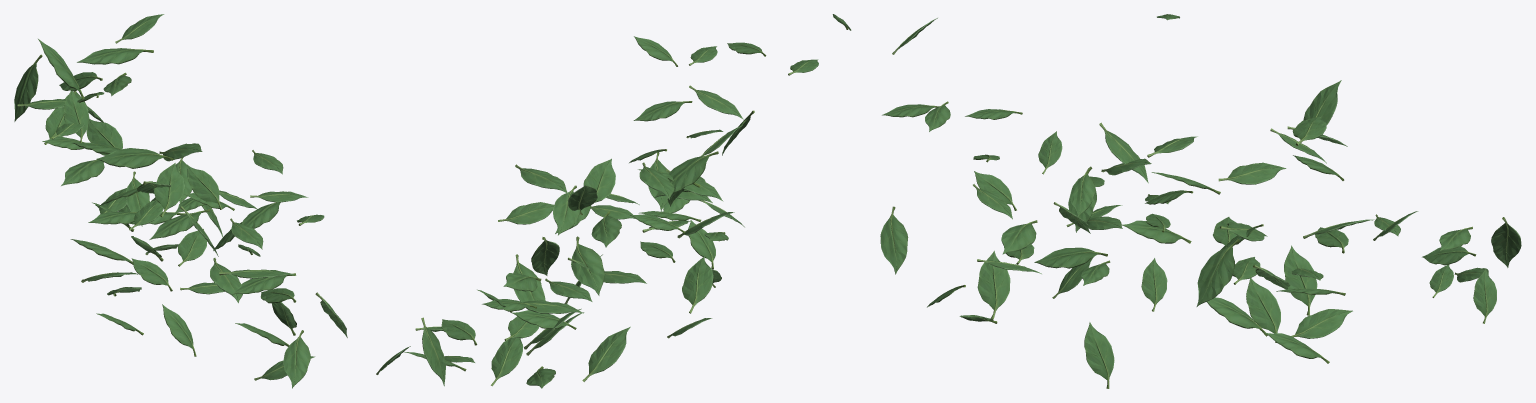
The model's file is holy_canopy7_complete.glb.
3 views of the same model, side by side, from view 1: azimuth 30°, elevation 25°; view 2: azimuth 150°, elevation 25°; view 3: azimuth 270°, elevation 25° (orthographic). The views are drawn at different scales.
Visible parts, largest first — view 1: holy_canopy7; view 2: holy_canopy7; view 3: holy_canopy7.
Part boxes in pixels (<box>): holy_canopy7: <box>14,14,347,388</box>; holy_canopy7: <box>376,14,851,388</box>; holy_canopy7: <box>880,14,1521,388</box>.
Size of the model in its own units: 8.37 by 12.8 by 23.18.
Materials: 1 (1 with a texture image).
